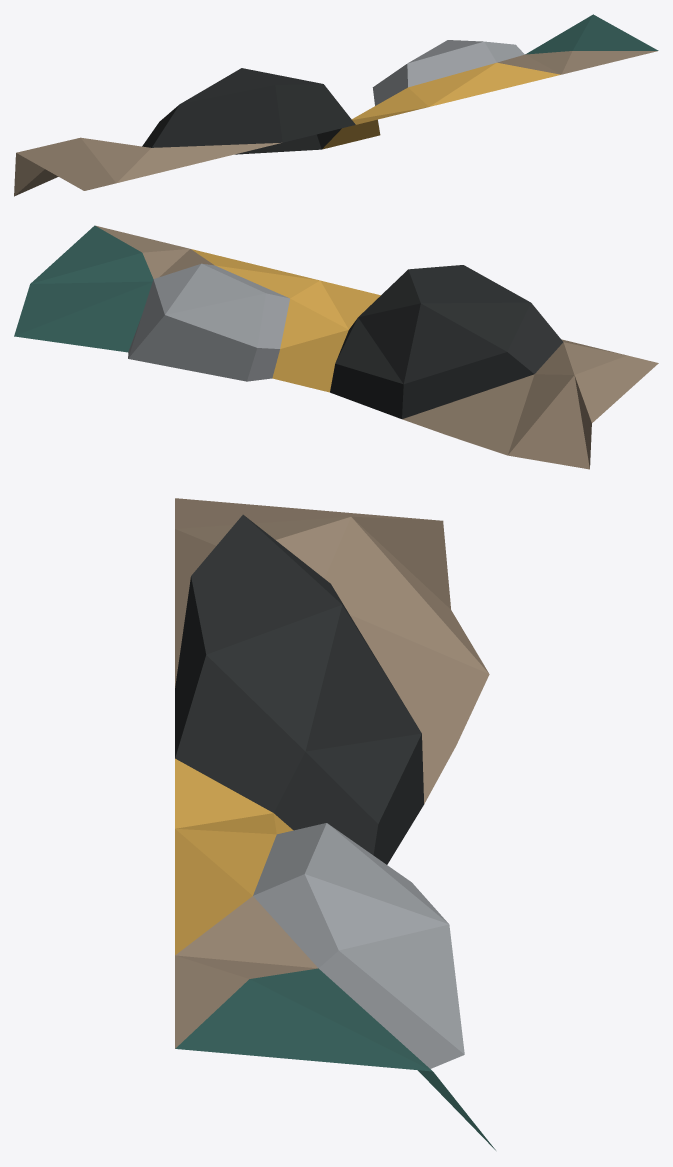
Rendered from SM_Veh_Truck_Attachment_Garbage_Pile.obj.
3 views of the same model, one above another, from view 1: azimuth 30°, elevation 25°; view 2: azimuth 150°, elevation 25°; view 3: azimuth 270°, elevation 25° (orthographic). The views are drawn at different scales.
Parts seen in each view (by area): view 1: SM_Veh_Truck_Attachment_Garbage_Pile_0; view 2: SM_Veh_Truck_Attachment_Garbage_Pile_0; view 3: SM_Veh_Truck_Attachment_Garbage_Pile_0.
Part boxes in pixels (x1,y1,x2,y2): SM_Veh_Truck_Attachment_Garbage_Pile_0: [14, 14, 658, 196]; SM_Veh_Truck_Attachment_Garbage_Pile_0: [14, 225, 658, 469]; SM_Veh_Truck_Attachment_Garbage_Pile_0: [175, 498, 495, 1150].
Bounding box in the file's own units: 2.14 × 0.4258 × 0.5305.
Materials: 1 (1 with a texture image).
